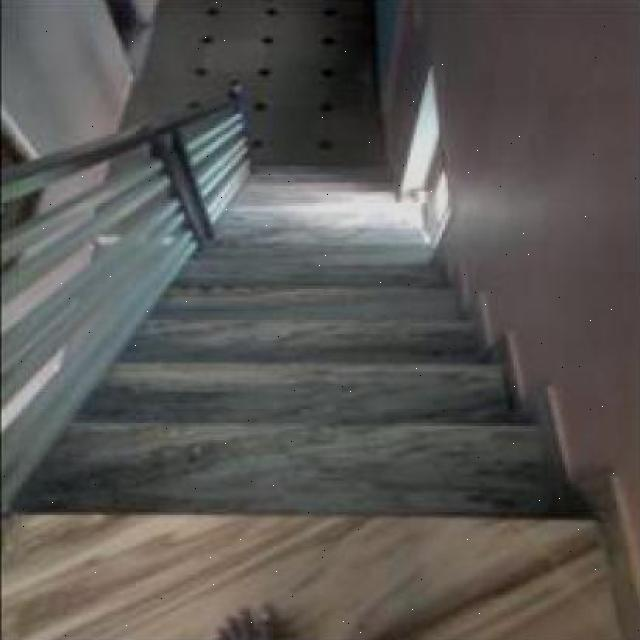stair: (39, 329, 503, 557)
